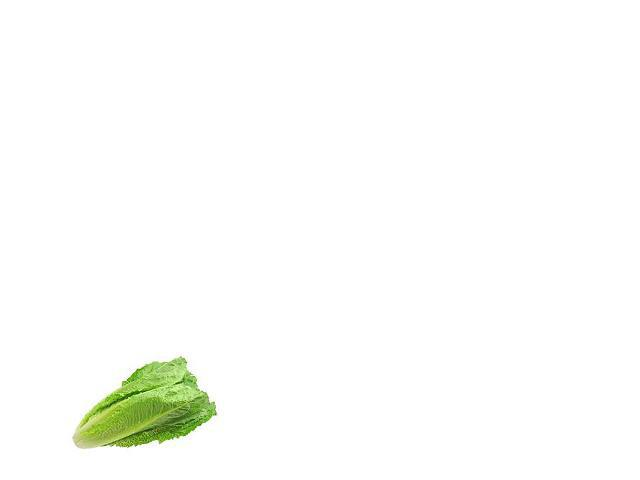lettuce: (85, 348, 239, 478)
